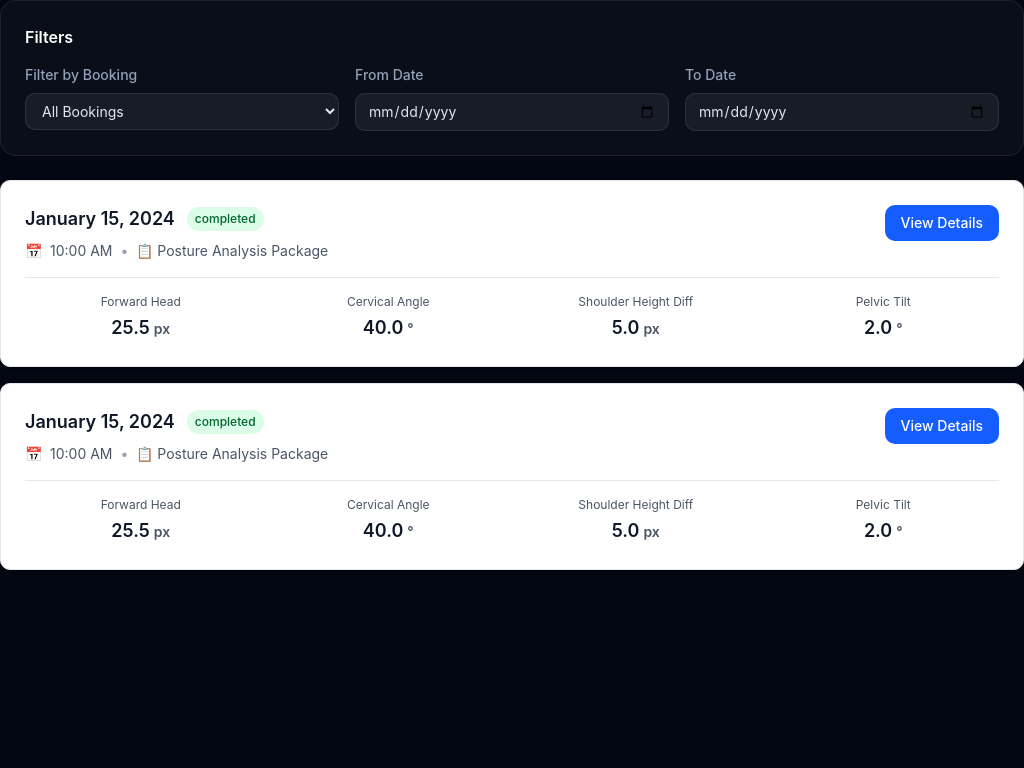
Test case: AssessmentHistory › Filtering › should clear all filters when clear button is clicked
The image size is (1024, 768).
Select "Posture Analysis Package" in the dropdown labelled "Filter by Booking": (182, 112) [25,93,339,130]
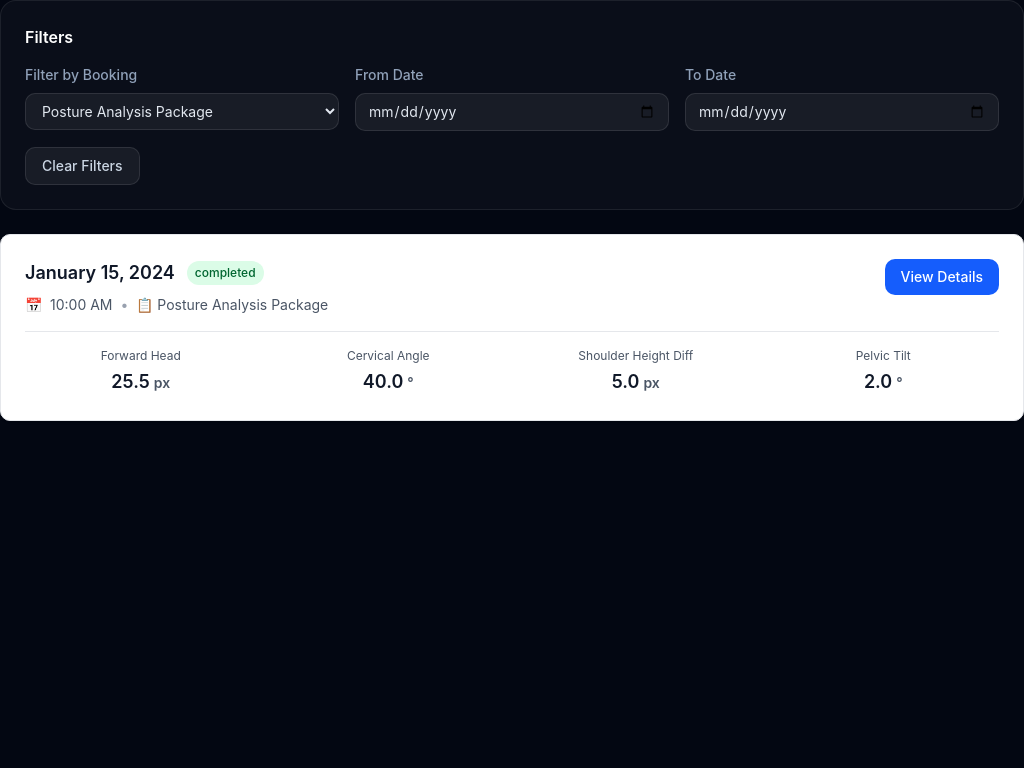
In the date field labelled "From Date": (512, 112) [355,93,669,131], type "2024-01-01"
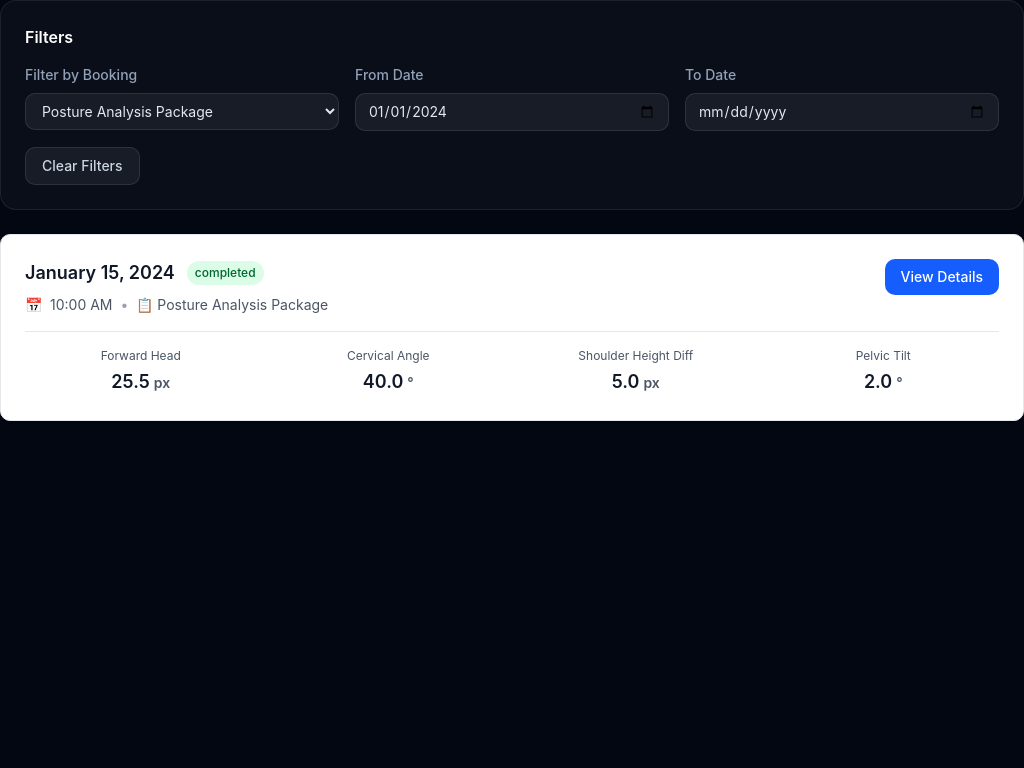
Note: Clear filters
Click the button "Clear Filters": (82, 166) [25,147,140,185]
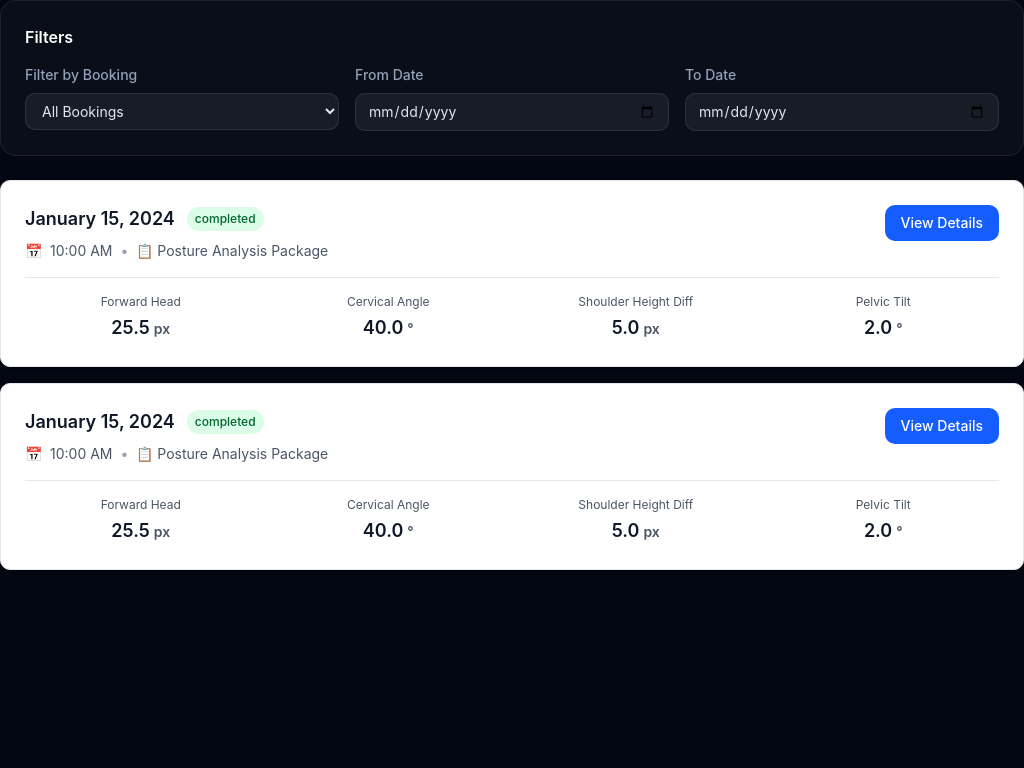
Now the date field labelled "From Date" is empty, box [355,93,669,131]
